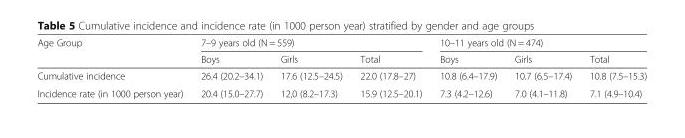table: (36, 36, 646, 98)
table column: (36, 36, 191, 98), (191, 36, 271, 98), (350, 36, 430, 98), (271, 36, 350, 98), (430, 36, 505, 98), (505, 36, 580, 98), (580, 36, 646, 98)
table column header: (36, 36, 646, 67)
table row: (36, 50, 646, 67), (36, 67, 646, 84), (36, 36, 646, 50), (36, 84, 646, 98)
table spanning cell: (36, 36, 191, 67), (191, 36, 430, 50), (430, 36, 646, 50)
